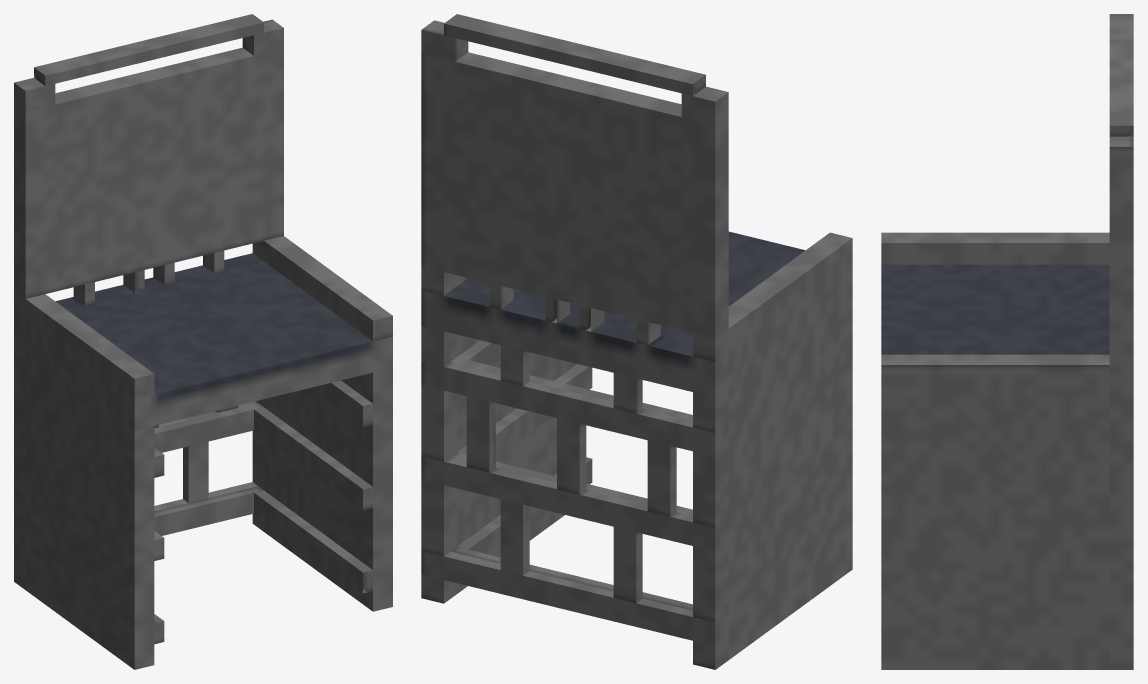
Rendered from krzeslo.dae.
3 views of the same model, side by side, from view 1: azimuth 30°, elevation 25°; view 2: azimuth 150°, elevation 25°; view 3: azimuth 270°, elevation 25° (orthographic). The views are drawn at different scales.
Parts seen in each view (by area): view 1: Content; view 2: Content; view 3: Content.
Boxes of the visible parts, x1,y1,x2,y2 form: Content: (14,14,392,669); Content: (421,14,852,669); Content: (881,14,1133,669).
Bounding box in the file's own units: 26 × 49 × 21.
1 material, 1 textured.
